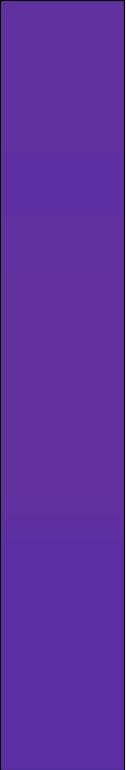safe: (8, 14, 114, 760)
